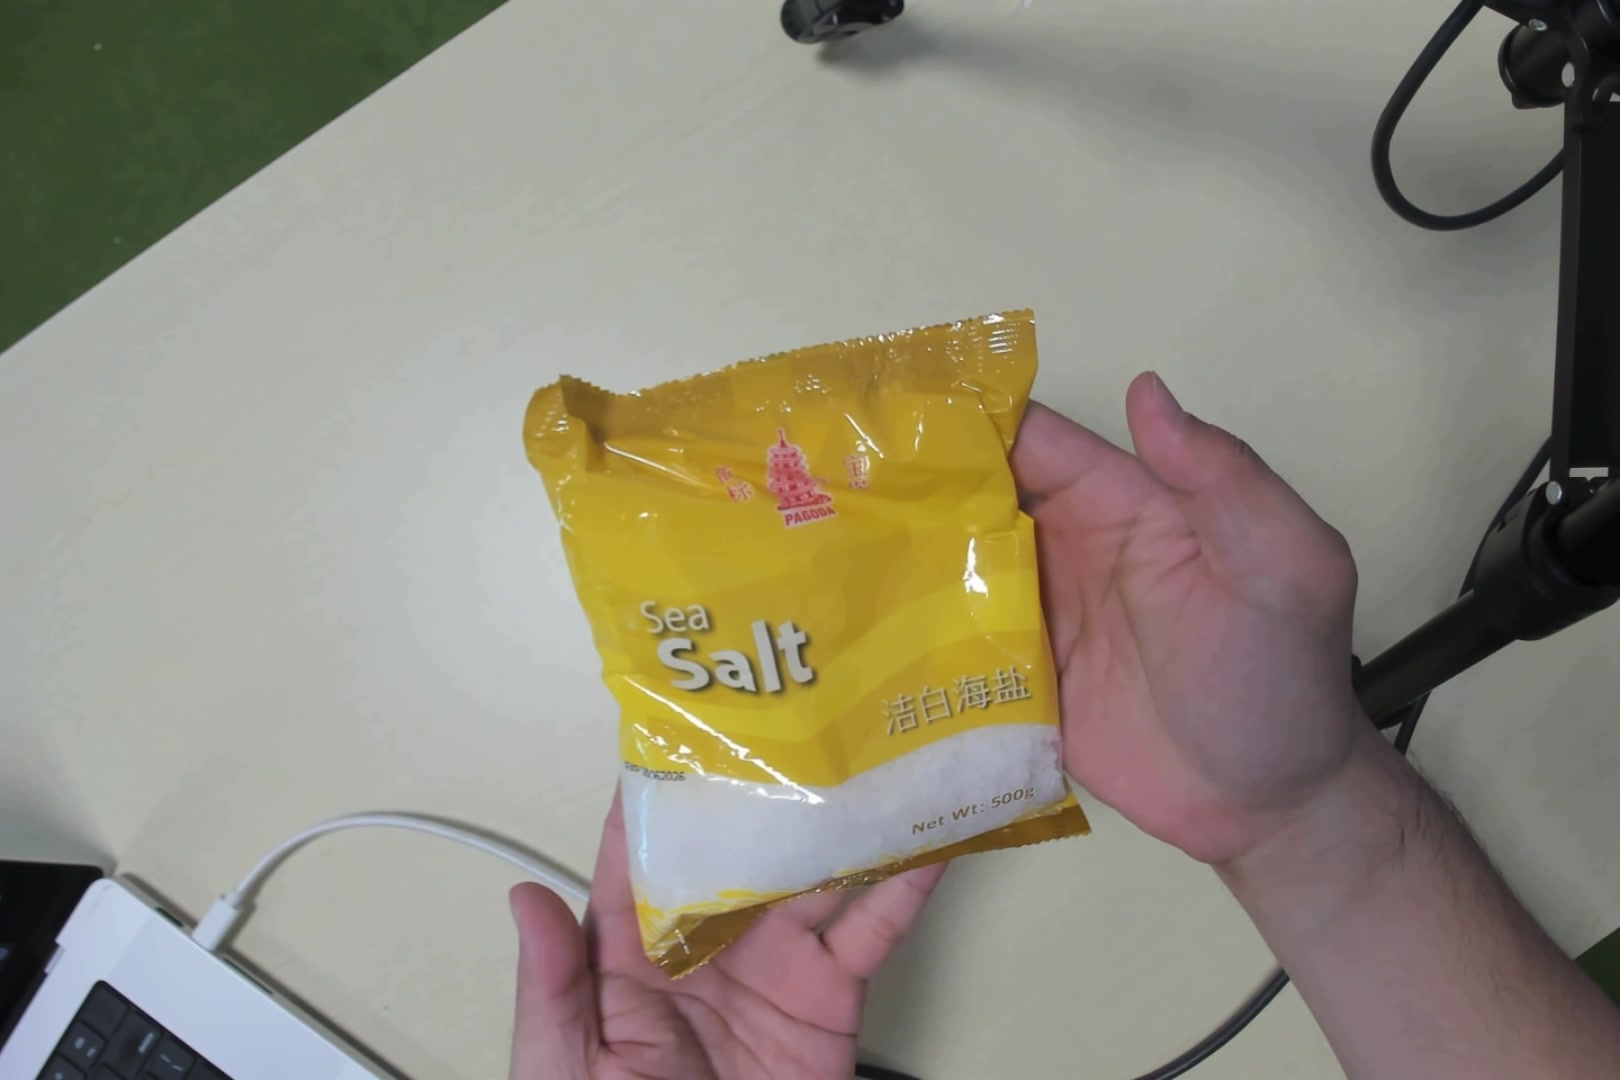Salt_500-599g_Halal_NonHealthy: (554, 342, 1125, 935)
